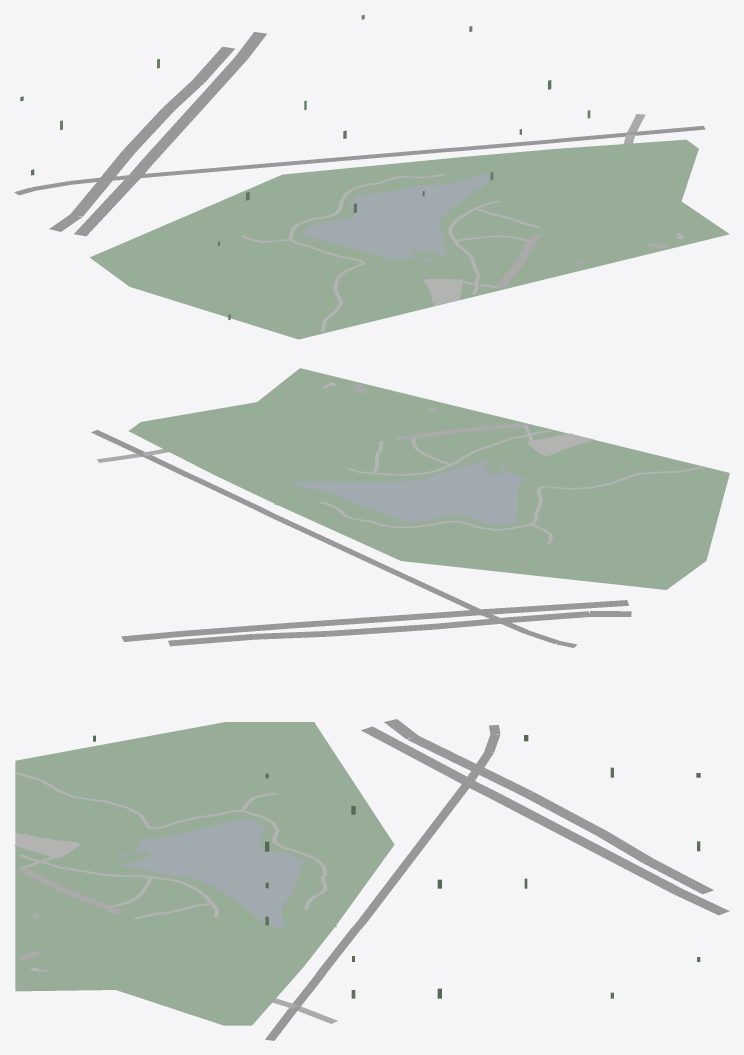
3 views of the same model, one above another, from view 1: azimuth 30°, elevation 25°; view 2: azimuth 150°, elevation 25°; view 3: azimuth 270°, elevation 25° (orthographic). The views are drawn at different scales.
Size of the model in its own units: 526 by 9.58 by 498.
